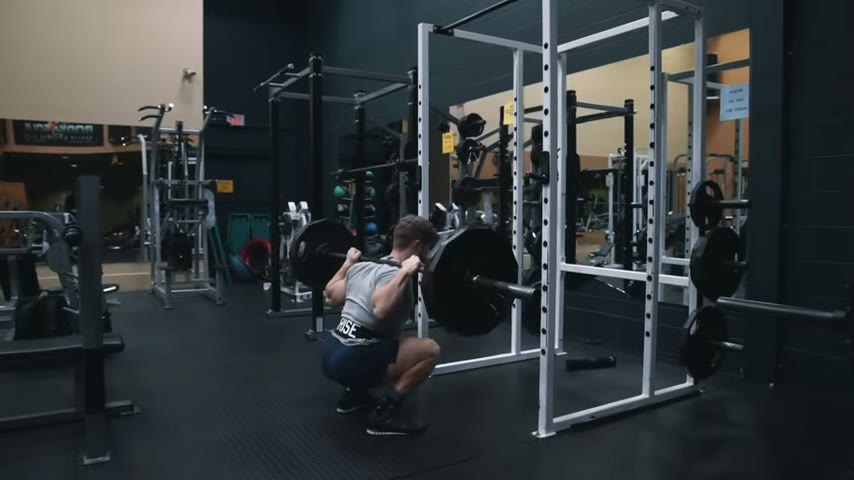barbell_plate_side: (457, 212, 529, 428), (295, 211, 359, 381)
